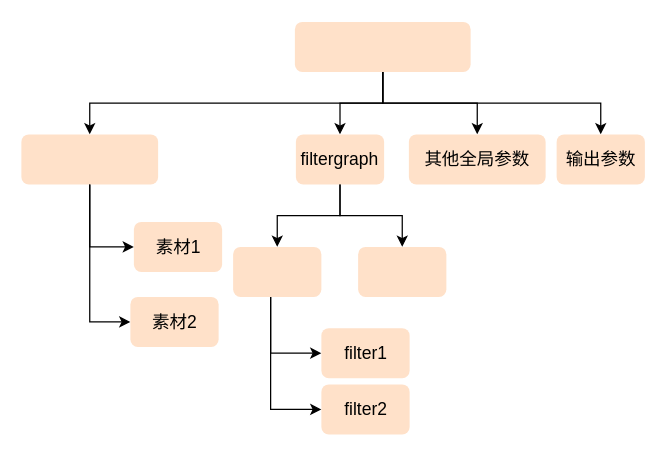
Some shapes in this 666 by 455 pixel diagram are drawn without their labels. Each missing label, with the centre of its shape:
FFmpeg命令参数: pixel 382 46
filterchain1: pixel 276 271
filterchain2: pixel 402 271
输入参数xN: pixel 89 159
